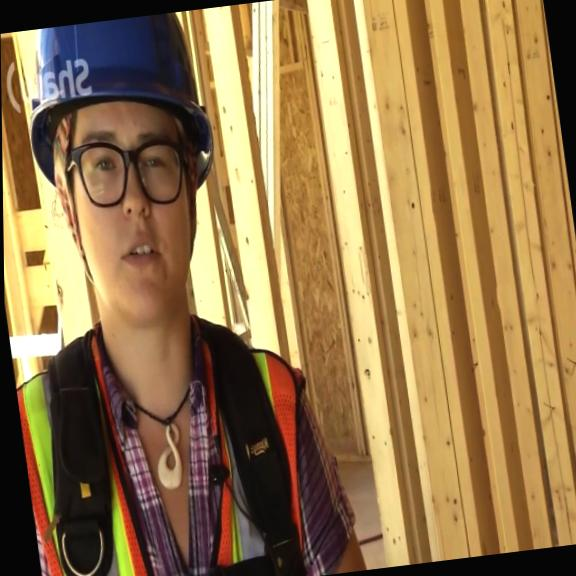safety_vest: (7, 295, 338, 576)
